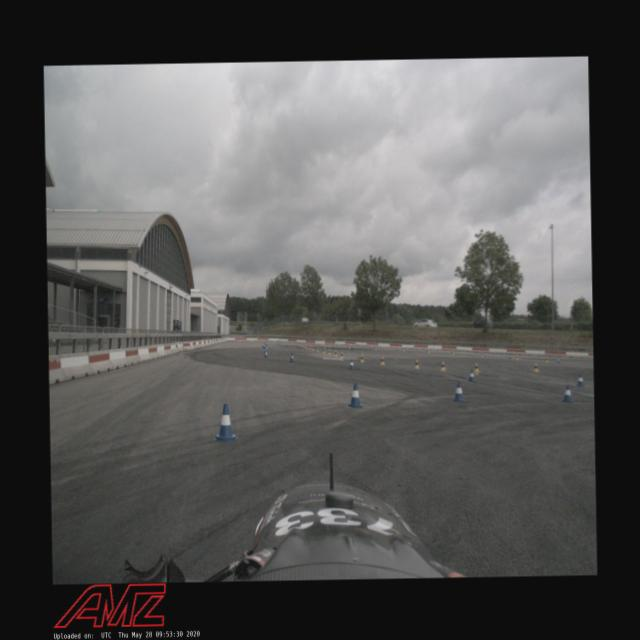blue_cone: (212, 403, 238, 441), (348, 383, 362, 408), (452, 381, 466, 402), (561, 383, 574, 402), (575, 374, 584, 386), (467, 369, 475, 382), (348, 358, 355, 369), (288, 353, 294, 362), (264, 348, 268, 358), (508, 352, 512, 358), (556, 357, 560, 362)
yellow_cone: (472, 362, 479, 374), (532, 361, 539, 372), (440, 361, 446, 371), (414, 358, 419, 368), (380, 356, 385, 364), (359, 354, 364, 362), (326, 348, 331, 355), (333, 348, 337, 356), (339, 351, 343, 358), (315, 346, 319, 352), (544, 356, 548, 362), (321, 348, 325, 353), (514, 354, 518, 359), (481, 351, 484, 357), (311, 344, 314, 350)
